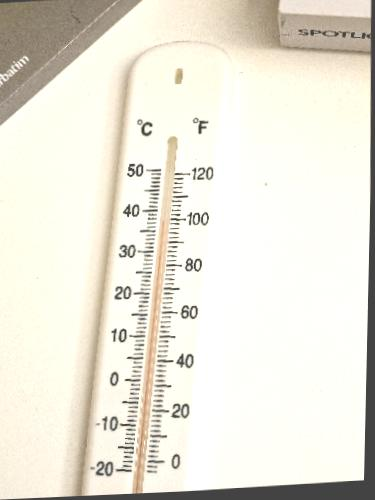thermo: (72, 27, 253, 500)
